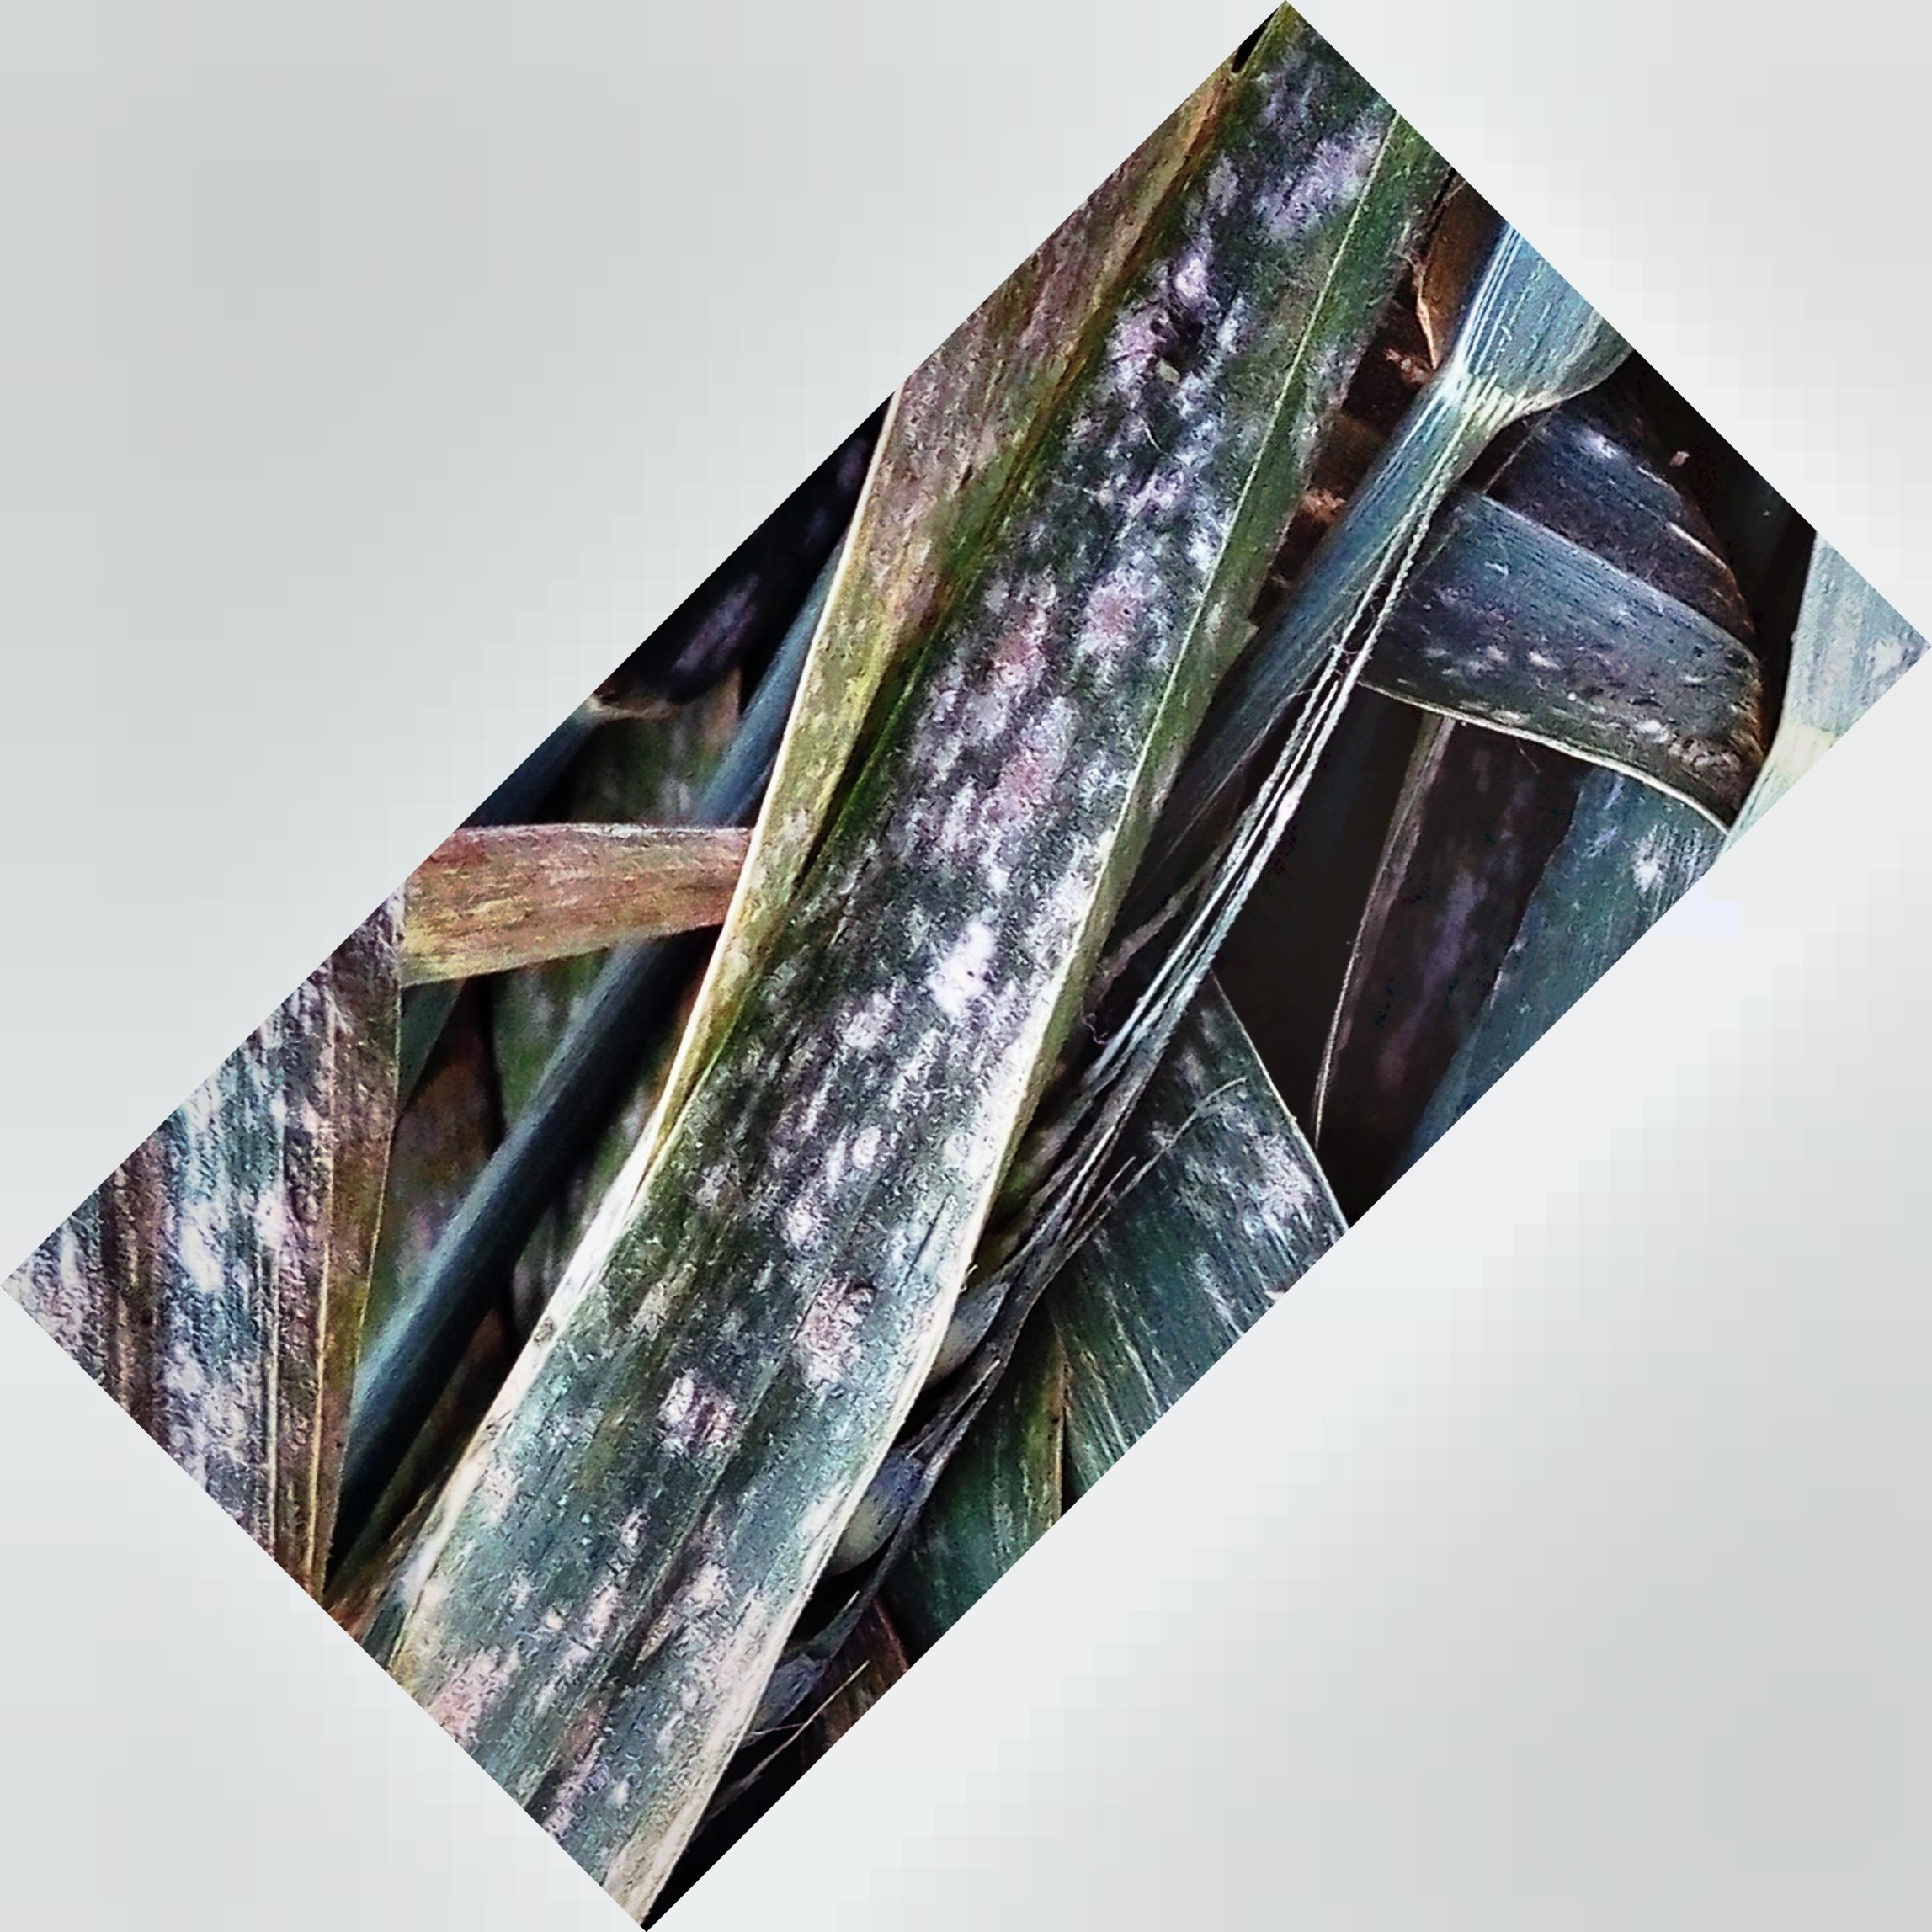Powdery Mildew: (598, 490, 1201, 1562)
